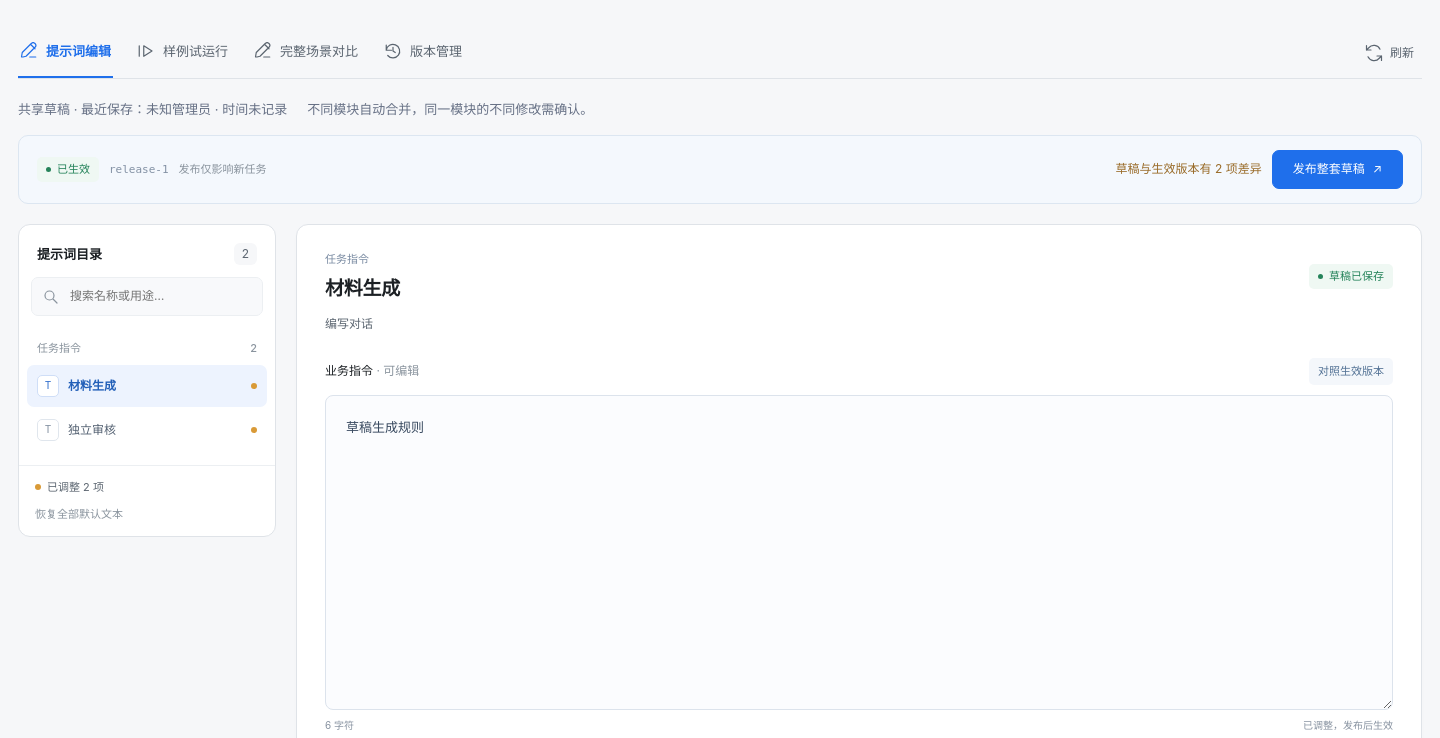
Test: administrator prompt manager › retains edits while switching prompts and saves the full draft without publishing
Replace the text in the text box named "草稿业务文本" with "新的业务规则" at (859, 552), box [325, 395, 1393, 710]
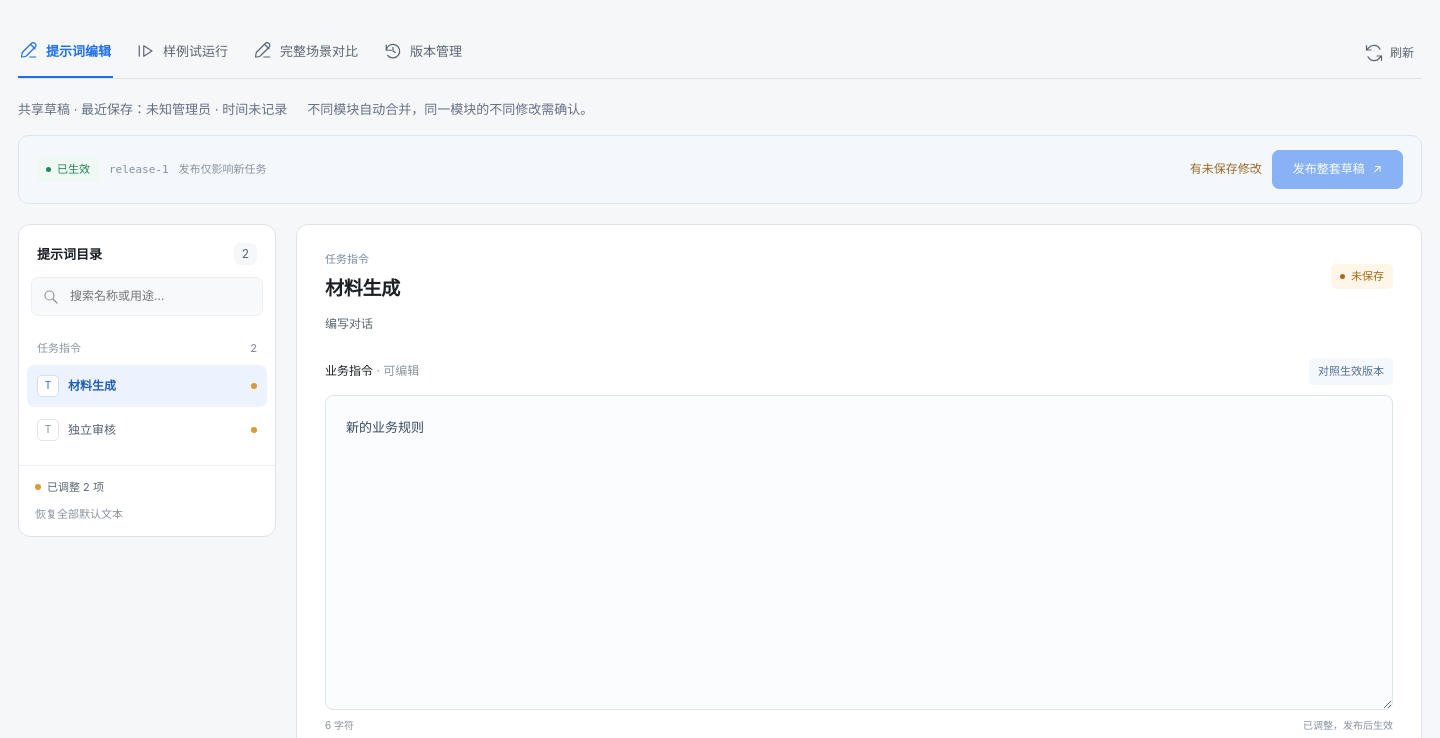
Click the button with aria-label "选择提示词：独立审核" at (147, 430), box [27, 409, 267, 451]
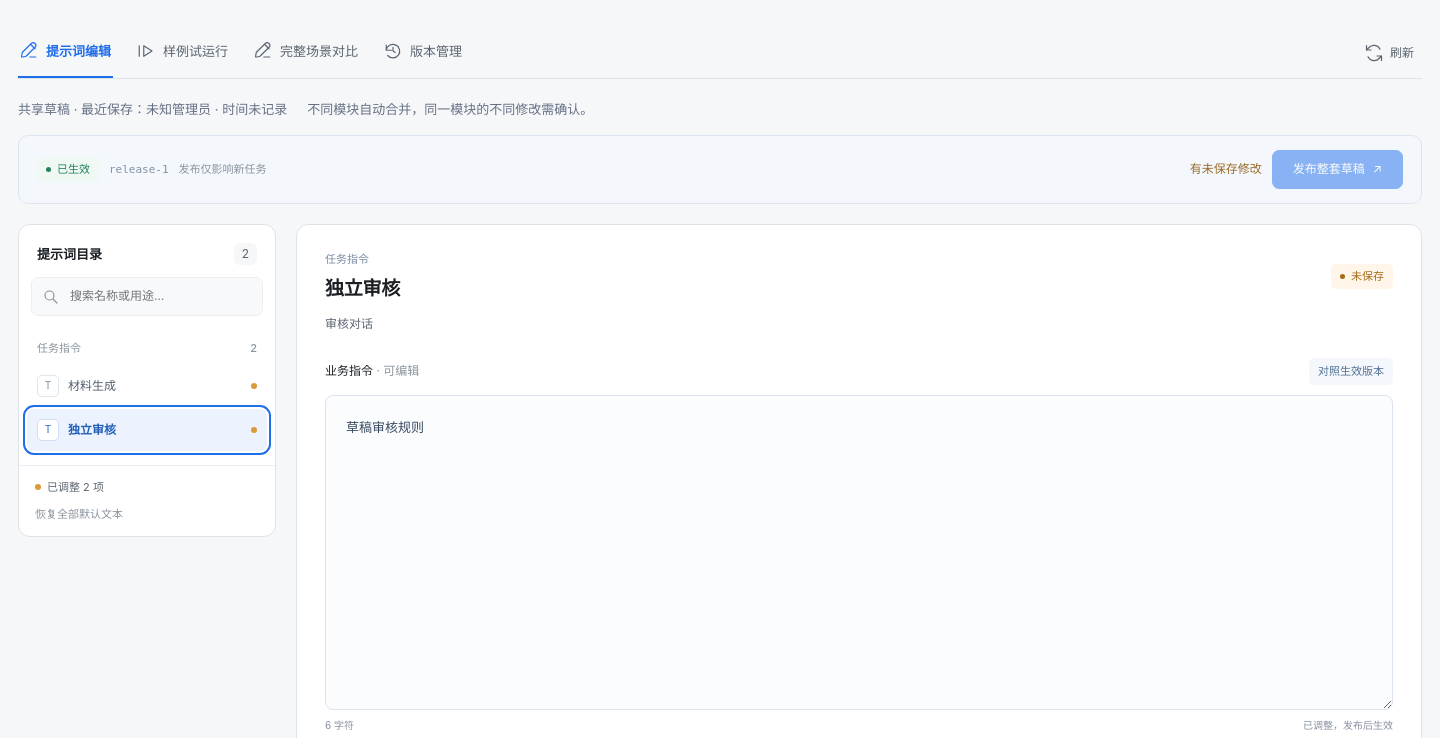
expect the text box named "草稿业务文本" holds "草稿审核规则": met, box [325, 395, 1393, 710]
Click the button with aria-label "选择提示词：材料生成" at (147, 386), box [27, 365, 267, 407]
(page scrolled)
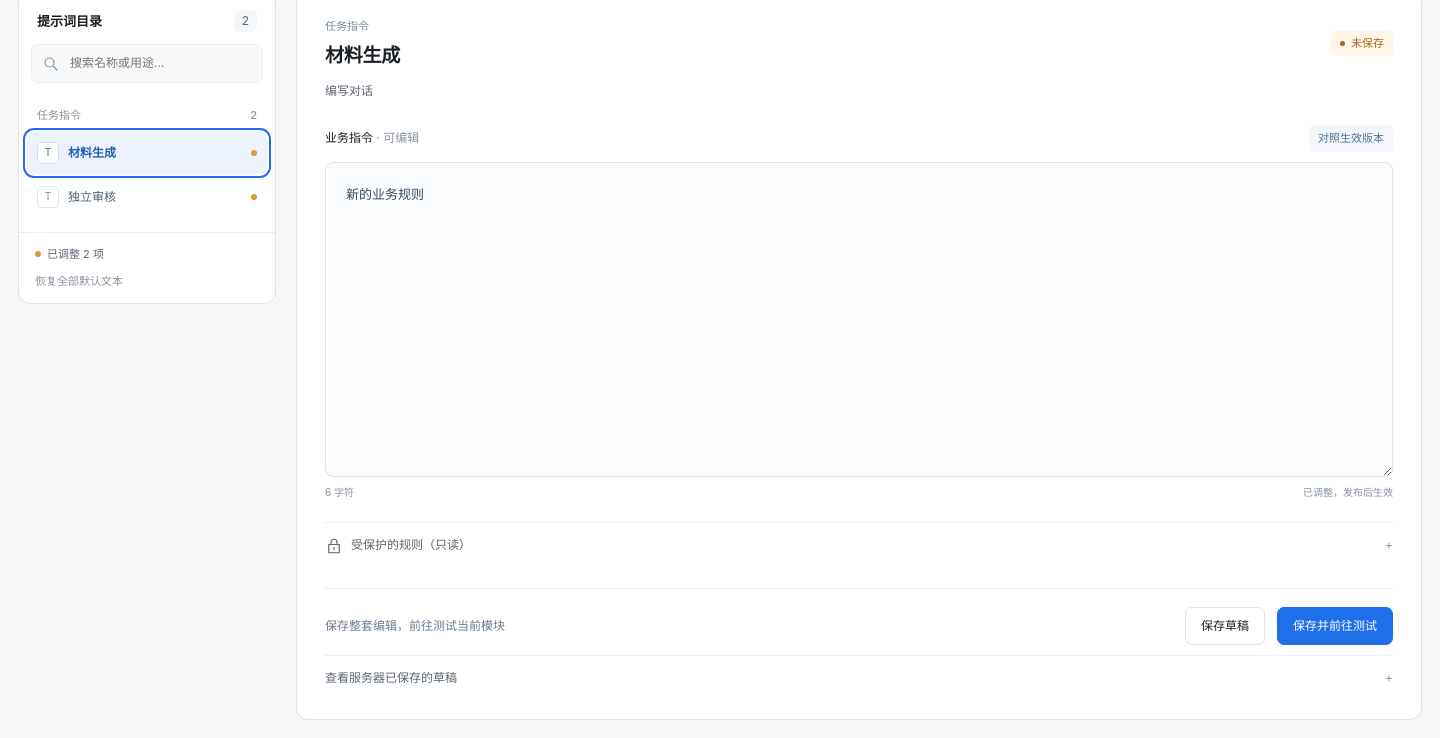
Click the button "保存草稿" at (1225, 626), box [1185, 607, 1265, 645]
(page scrolled)
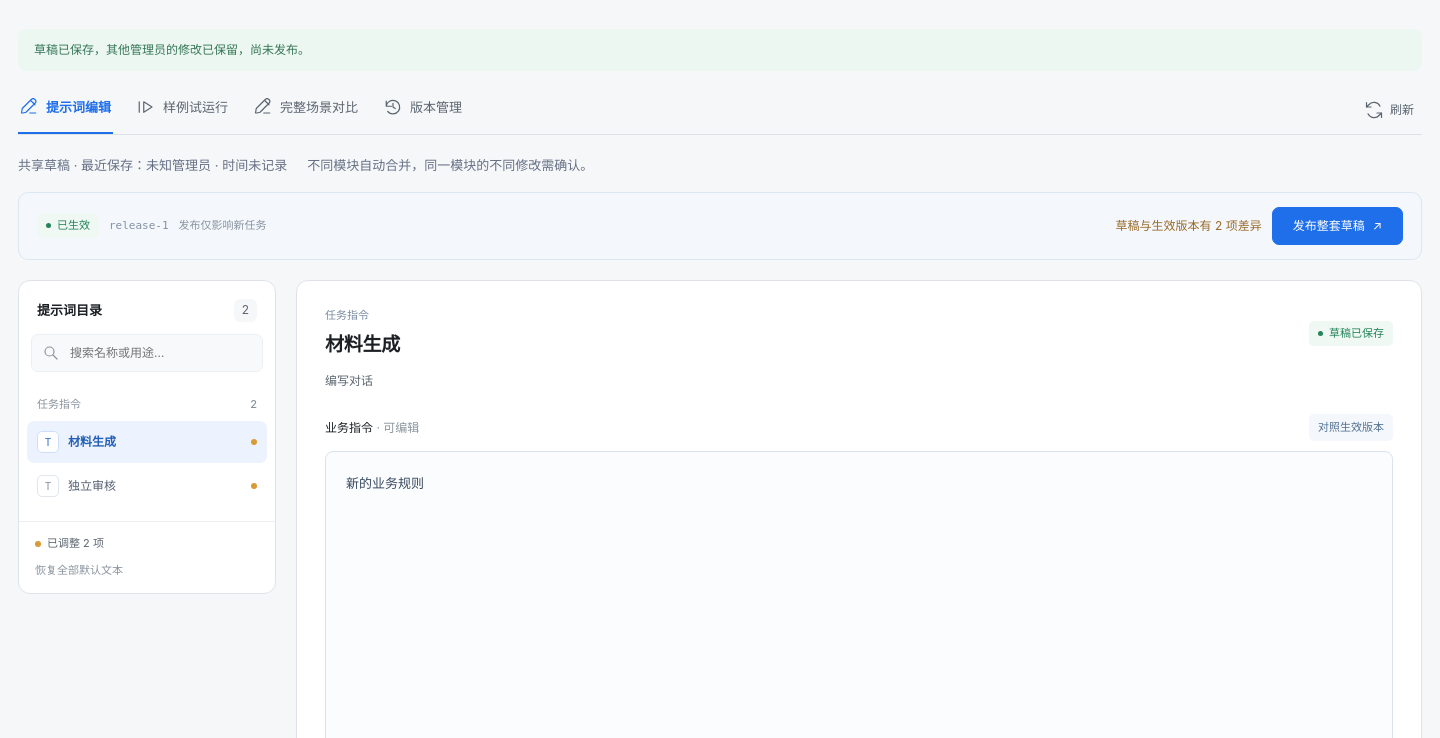
expect the text "草稿已保存，其他管理员的修改已保留，尚未发布。" is shown: met, box [18, 29, 1422, 71]
